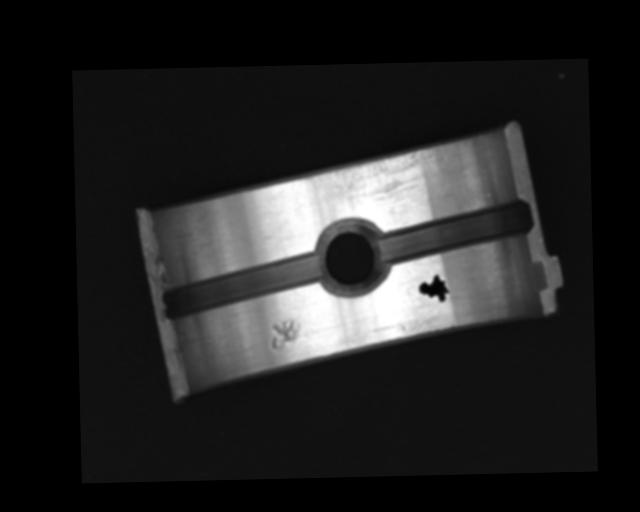blot: (417, 273, 451, 302)
bruise: (269, 319, 302, 351)
gap: (161, 250, 323, 320), (375, 200, 534, 262)
hole: (314, 218, 389, 293)
scratch: (305, 143, 449, 211)
